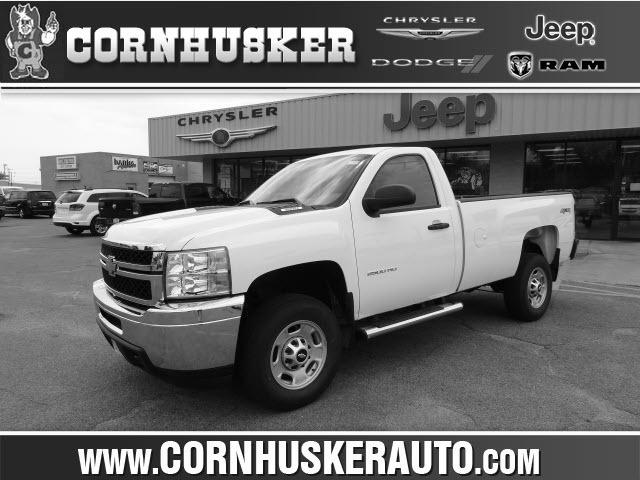car: (91, 143, 582, 410)
